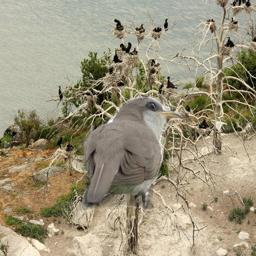Cuckoo: (79, 96, 183, 210)
